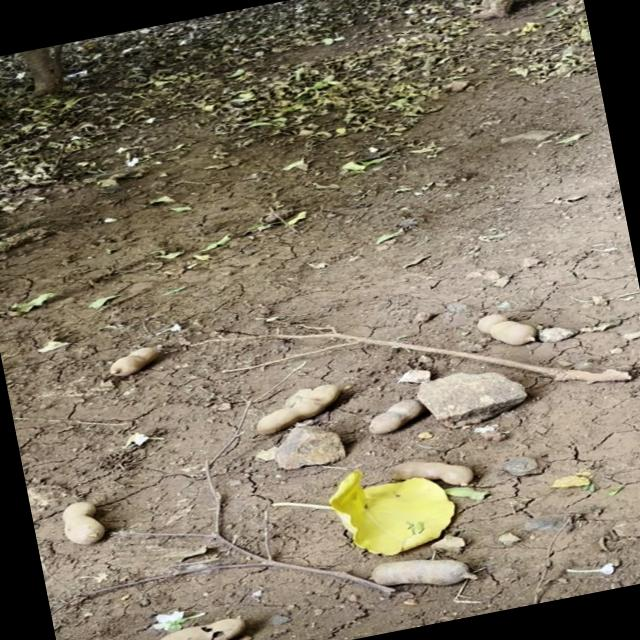tamarind: (365, 542, 490, 602), (252, 381, 342, 432), (84, 613, 251, 640), (392, 444, 472, 496), (467, 305, 541, 353), (57, 497, 107, 547), (360, 396, 424, 435), (104, 344, 158, 383)
